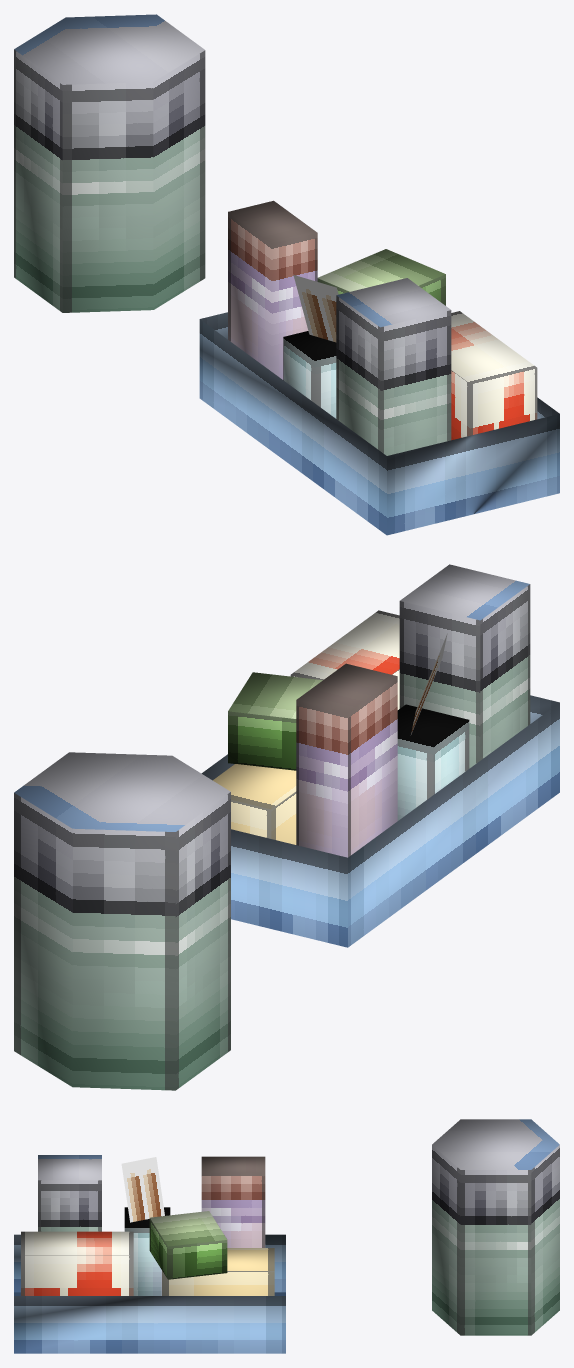
Rendered from a_SCgen_31_1.glb.
3 renders of one model, top to bottom at view 1: azimuth 30°, elevation 25°; view 2: azimuth 150°, elevation 25°; view 3: azimuth 270°, elevation 25°, orthographic. The views are drawn at different scales.
Visible parts, largest first — view 1: a_SCgen_31_1; view 2: a_SCgen_31_1; view 3: a_SCgen_31_1.
Part boxes in pixels (box(x1,y1,x2,y2)): a_SCgen_31_1: box(14, 14, 559, 535); a_SCgen_31_1: box(14, 564, 559, 1090); a_SCgen_31_1: box(14, 1119, 559, 1353).
Size of the model in its own units: 0.2167 by 0.2504 by 0.7422.
Materials: 2 (2 with a texture image).
